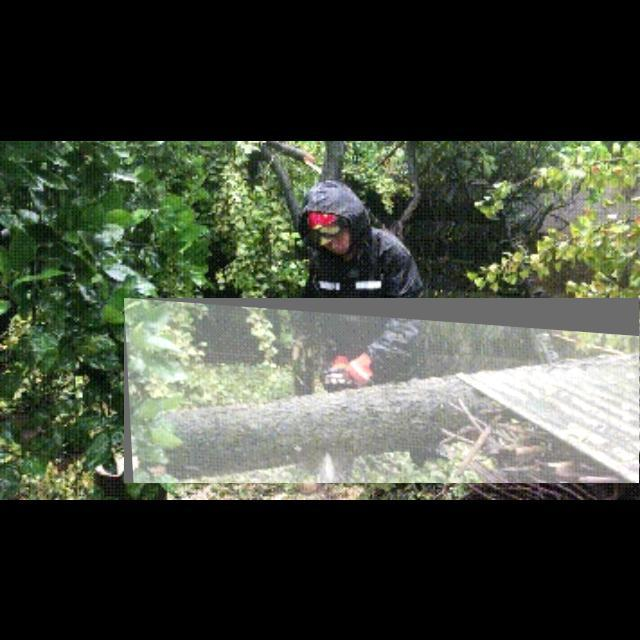fallen_tree: (124, 298, 640, 484)
